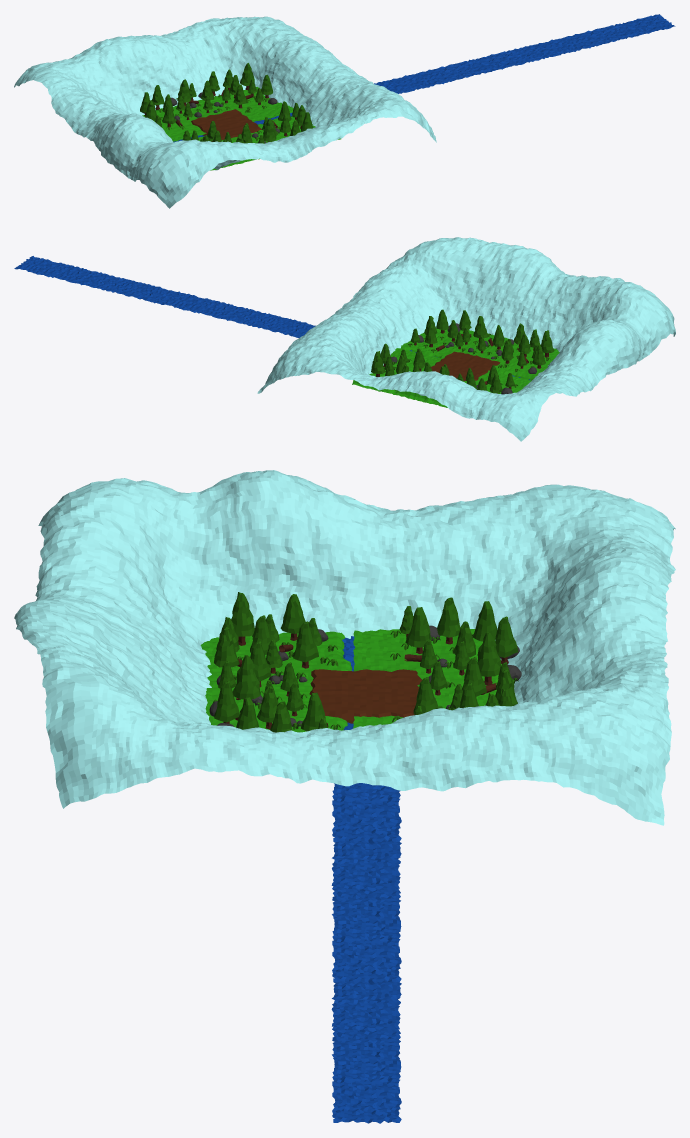
File: Map.FBX
3 views of the same model, one above another, from view 1: azimuth 30°, elevation 25°; view 2: azimuth 150°, elevation 25°; view 3: azimuth 270°, elevation 25° (orthographic). The views are drawn at different scales.
Parts seen in each view (by area): view 1: Border, Water3, Field003, Water2, BoardBase, Field2; view 2: Border, Water3, Field2, Water2, Field003, BoardBase; view 3: Border, Water3, Water2, BoardBase, Field003, Field2.
Part boxes in pixels (<box>): Border: <box>14,16,436,208</box>; Water3: <box>477,14,675,70</box>; Field003: <box>142,87,293,141</box>; Water2: <box>374,59,492,93</box>; BoardBase: <box>191,109,261,139</box>; Field2: <box>198,116,340,170</box>; Border: <box>257,237,675,441</box>; Water3: <box>14,256,213,312</box>; Field2: <box>401,328,559,380</box>; Water2: <box>197,300,315,337</box>; Field003: <box>352,348,531,407</box>; BoardBase: <box>431,351,500,380</box>; Border: <box>14,470,675,825</box>; Water3: <box>331,945,401,1123</box>; Water2: <box>331,783,401,947</box>; BoardBase: <box>309,669,421,723</box>; Field003: <box>353,629,501,728</box>; Field2: <box>200,631,352,732</box>.
Size of the model in its own units: 158 by 16.44 by 78.45.
